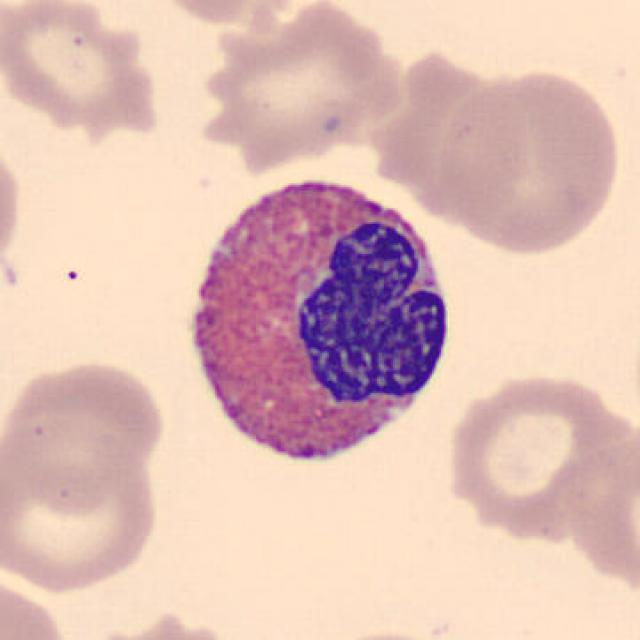Eosinophil: (169, 157, 466, 492)
RBC: (432, 64, 626, 259), (191, 0, 405, 169), (439, 369, 633, 543), (366, 42, 528, 215), (0, 428, 164, 596), (2, 356, 169, 515), (0, 0, 160, 132), (552, 418, 640, 604), (75, 608, 249, 640), (0, 571, 75, 640), (142, 0, 302, 28), (0, 136, 27, 286), (302, 626, 471, 640)
